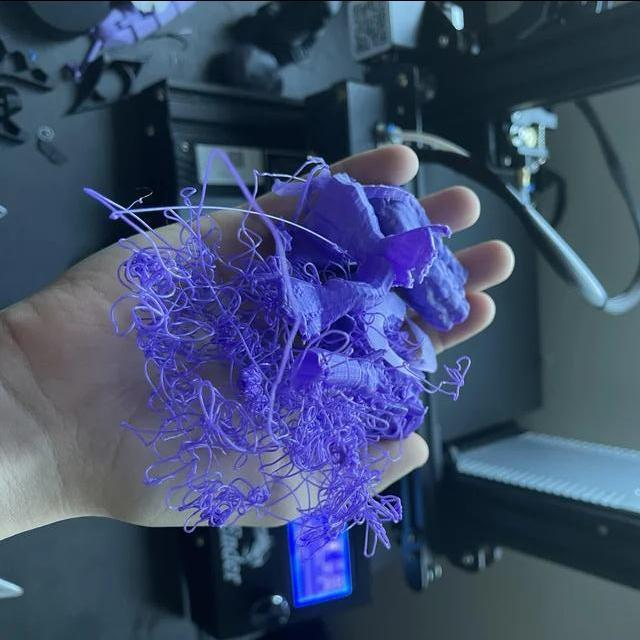Spaghetti: (115, 239, 209, 365), (208, 268, 262, 372), (305, 410, 395, 470), (314, 480, 402, 538), (184, 476, 264, 532), (178, 384, 241, 452), (130, 374, 184, 446), (249, 364, 294, 440), (91, 186, 159, 234), (412, 356, 470, 399)
